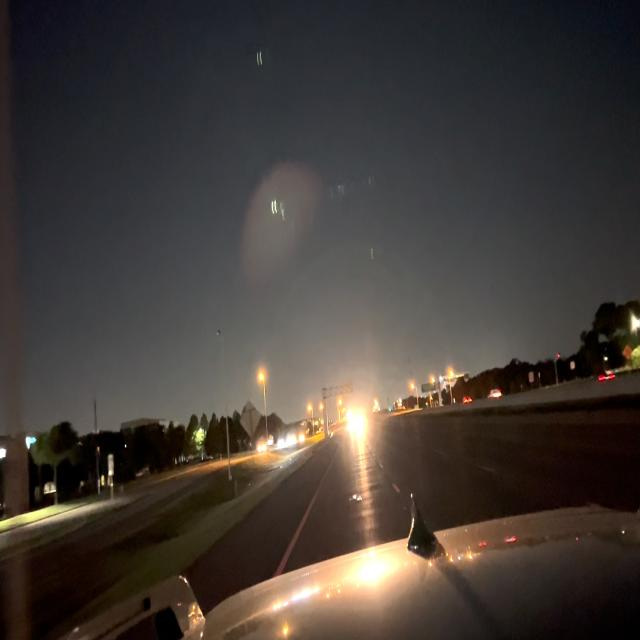back-of-sign: (240, 400, 262, 438)
